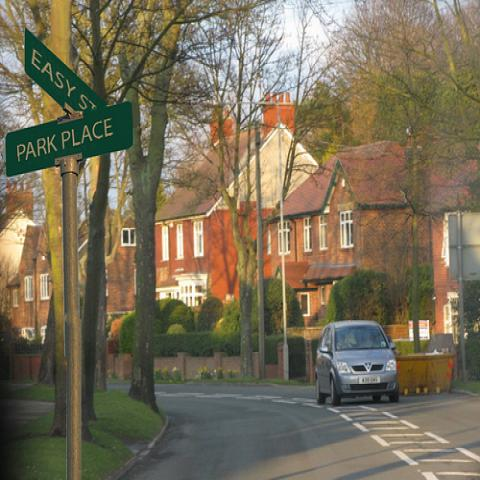car: (315, 320, 399, 406)
